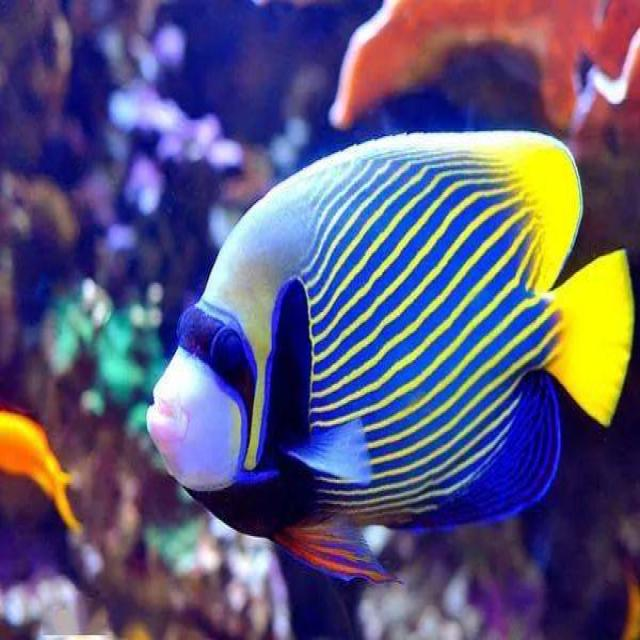AngelFish: (145, 134, 636, 584)
